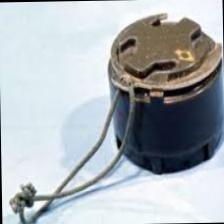M14: (101, 9, 224, 179)
